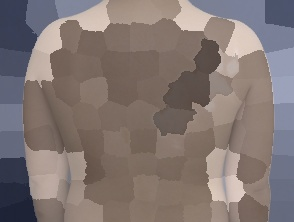vitiligo: (164, 22, 268, 126)
